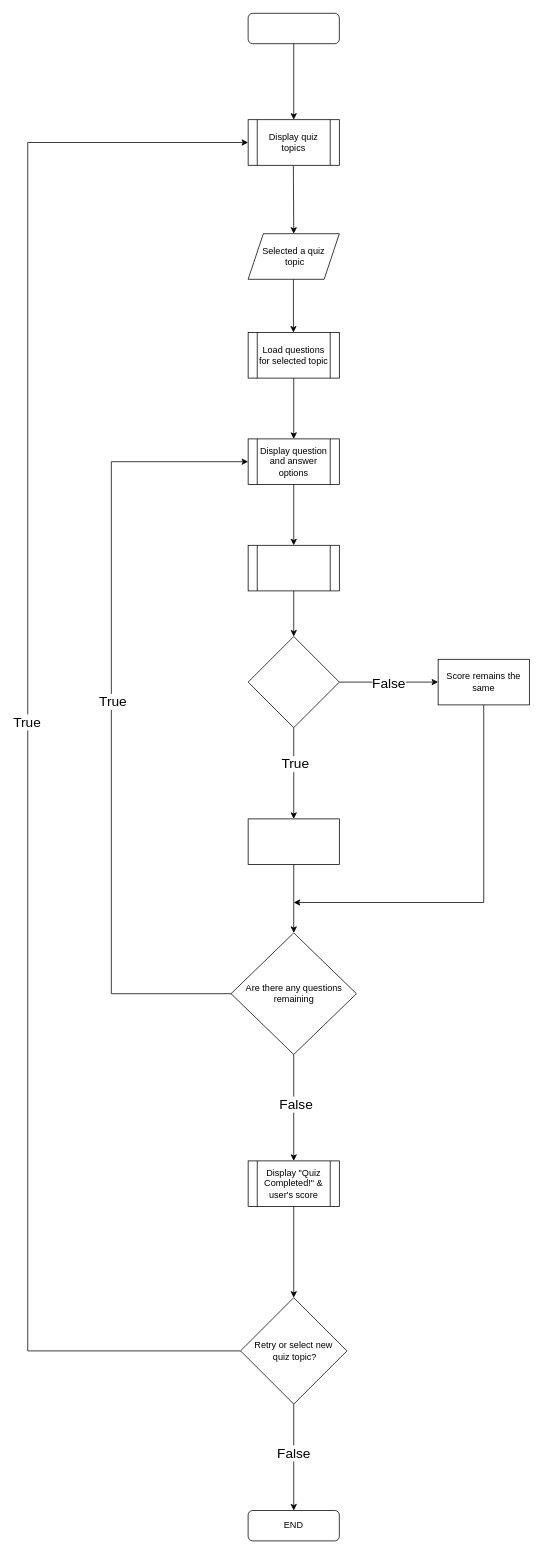
The diagram is 543 pixels wide and 1554 high, and some of its shapes have lost their labels. The box of each missing label's shape, as (x1, y1, x2, y2) in pixels:
Is selected option correct: (247, 636, 339, 728)
Question answered: (247, 545, 339, 591)
Score increases by +1: (247, 818, 339, 864)
START: (247, 13, 339, 44)
